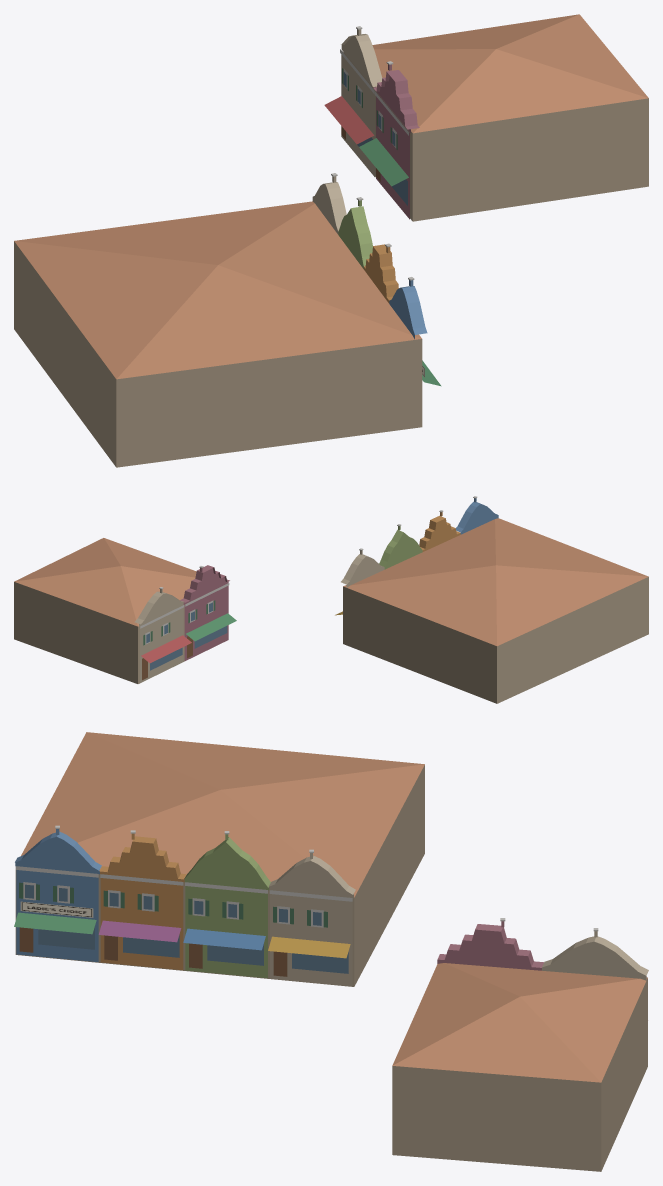
The model's file is ora_oranje.glb.
The picture shows the model from 3 angles, top to bottom: view 1: azimuth 30°, elevation 25°; view 2: azimuth 150°, elevation 25°; view 3: azimuth 270°, elevation 25°; orthographic projection. The views are drawn at different scales.
Parts seen in each view (by area): view 1: ora_oranje_lod0; view 2: ora_oranje_lod0; view 3: ora_oranje_lod0.
Boxes of the visible parts, left/top/right/bottom form: ora_oranje_lod0: left=14, top=14, right=648, bottom=467; ora_oranje_lod0: left=14, top=496, right=648, bottom=703; ora_oranje_lod0: left=14, top=732, right=648, bottom=1171.
Size of what is drawn, in the model's own units: 48.5 by 9.17 by 36.76.
3 materials, 1 textured.
